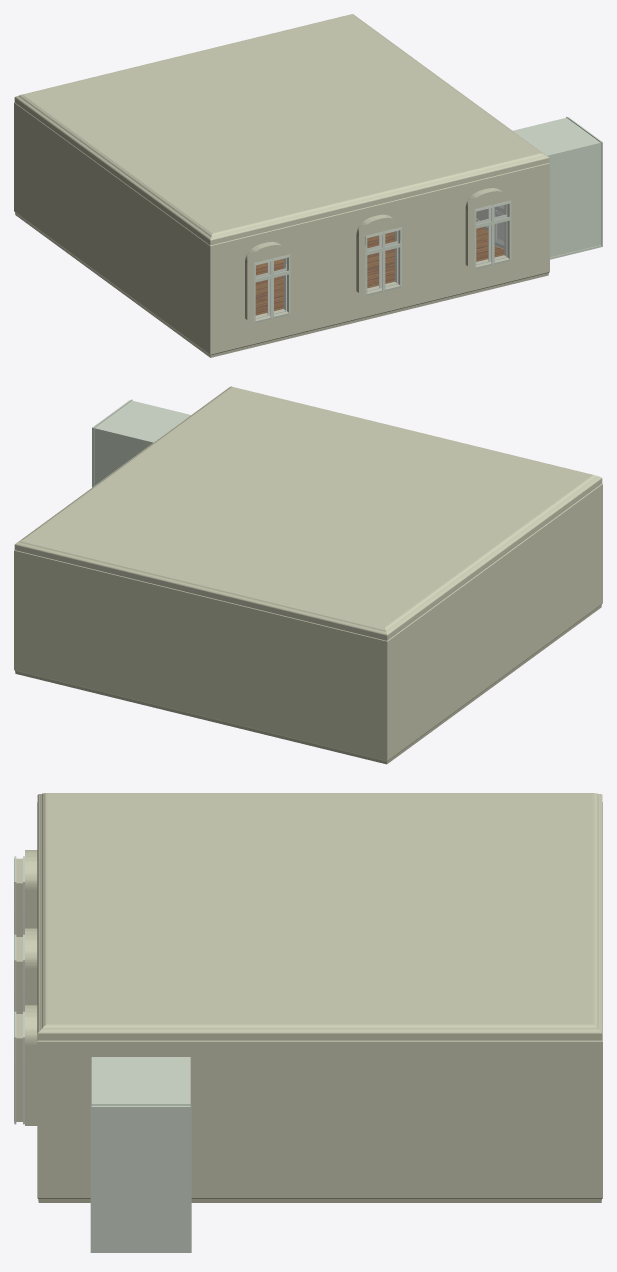
Rendered from room.glb.
3 views of the same model, one above another, from view 1: azimuth 30°, elevation 25°; view 2: azimuth 150°, elevation 25°; view 3: azimuth 270°, elevation 25° (orthographic). The views are drawn at different scales.
Parts seen in each view (by area): view 1: Cube, Doorframe, WindowFrame, WindowFrame.001, WindowFrame.002, Window2., Window2..002, Window2..001; view 2: Cube, Doorframe; view 3: Cube, Doorframe, WindowFrame, WindowFrame.002, WindowFrame.001.
Part boxes in pixels (bbox=[...]): Cube: bbox=[14, 14, 549, 357]; Doorframe: bbox=[513, 117, 602, 259]; WindowFrame: bbox=[465, 188, 517, 281]; WindowFrame.001: bbox=[356, 214, 408, 308]; WindowFrame.002: bbox=[245, 241, 296, 335]; Window2.: bbox=[474, 200, 511, 269]; Window2..002: bbox=[254, 254, 290, 323]; Window2..001: bbox=[365, 227, 401, 295]; Cube: bbox=[14, 386, 602, 764]; Doorframe: bbox=[92, 399, 190, 487]; Cube: bbox=[37, 793, 602, 1202]; Doorframe: bbox=[90, 1057, 191, 1252]; WindowFrame: bbox=[16, 1005, 37, 1125]; WindowFrame.002: bbox=[16, 850, 37, 936]; WindowFrame.001: bbox=[16, 928, 37, 1013].
Bounding box in the file's own units: 10.64 × 3.06 × 9.14.
Materials: 6 (2 with a texture image).
